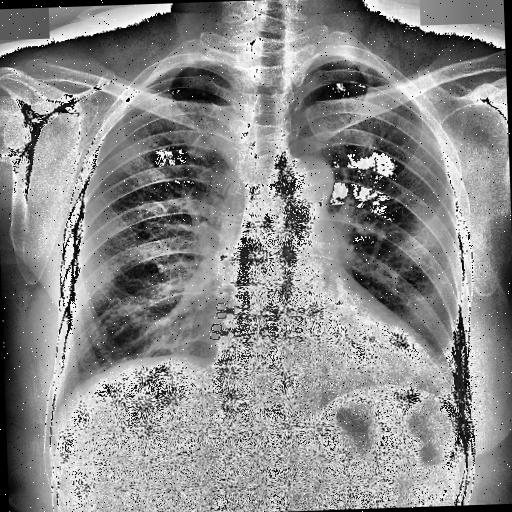0- Aortic enlargement: (288, 154, 336, 212)
10- Pleural effusion: (438, 352, 462, 412)
11- Pleural thickening: (438, 352, 462, 412)
2- Calcification: (315, 191, 326, 204)
3- Cardiomegaly: (211, 300, 453, 410), (212, 292, 446, 396), (211, 312, 442, 407)
